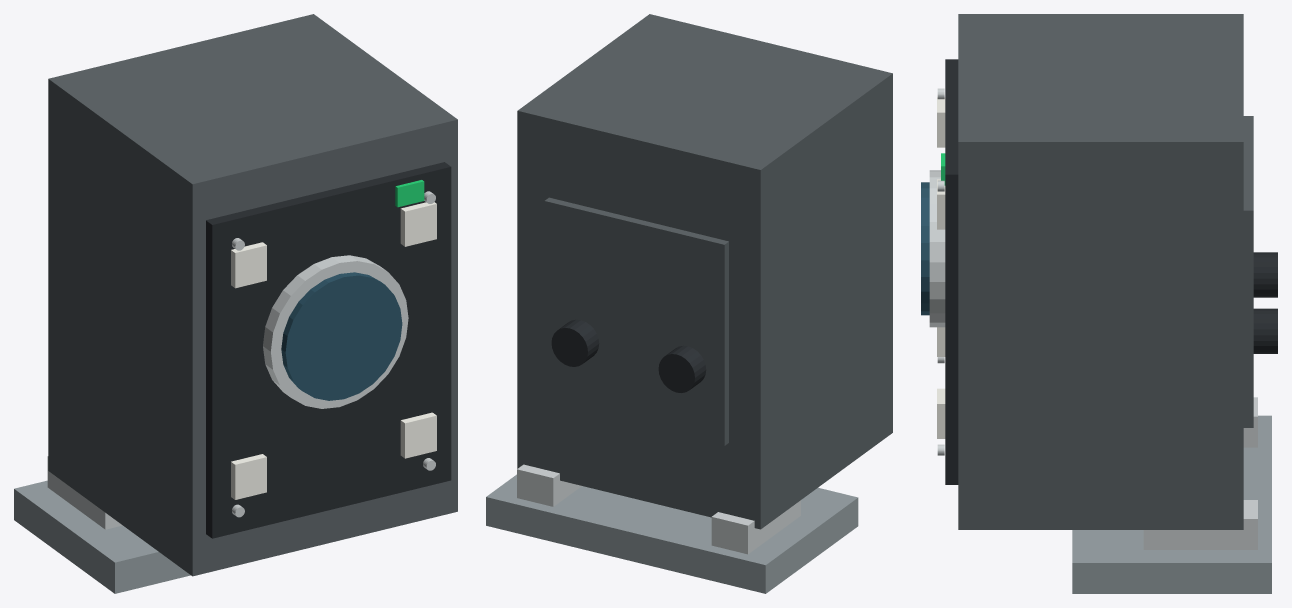
The picture shows the model from 3 angles, left to right: view 1: azimuth 30°, elevation 25°; view 2: azimuth 150°, elevation 25°; view 3: azimuth 270°, elevation 25°; orthographic projection. The views are drawn at different scales.
Visible parts, largest first — view 1: housing, front bezel, optical lens, Mount bracket, lens surround, illumination emitter.002, illumination emitter.003, illumination emitter, illumination emitter.001, mounting flange, status indicator; view 2: housing, Rear connector plate, Mount bracket, mounting flange, mounting flange.001, Electrical connector, Electrical connector.001; view 3: housing, Mount bracket, front bezel, Rear connector plate, mounting flange.001, lens surround, optical lens, Electrical connector, Electrical connector.001.
Part boxes in pixels (bbox=[...]): housing: bbox=[48, 14, 457, 576]; front bezel: bbox=[206, 162, 451, 538]; optical lens: bbox=[281, 272, 402, 400]; Mount bracket: bbox=[14, 480, 190, 593]; lens surround: bbox=[263, 255, 408, 408]; illumination emitter.002: bbox=[400, 412, 436, 458]; illumination emitter.003: bbox=[400, 202, 436, 246]; illumination emitter: bbox=[231, 454, 266, 499]; illumination emitter.001: bbox=[231, 242, 266, 288]; mounting flange: bbox=[47, 456, 122, 529]; status indicator: bbox=[395, 180, 424, 207]; housing: bbox=[517, 14, 892, 529]; Rear connector plate: bbox=[544, 197, 728, 445]; Mount bracket: bbox=[486, 474, 858, 593]; mounting flange: bbox=[711, 500, 800, 554]; mounting flange.001: bbox=[517, 464, 581, 506]; Electrical connector: bbox=[658, 345, 706, 392]; Electrical connector.001: bbox=[551, 319, 599, 366]; housing: bbox=[958, 14, 1243, 529]; Mount bracket: bbox=[1072, 415, 1271, 593]; front bezel: bbox=[945, 59, 958, 484]; Rear connector plate: bbox=[1243, 116, 1253, 427]; mounting flange.001: bbox=[1143, 500, 1257, 549]; lens surround: bbox=[929, 170, 945, 327]; optical lens: bbox=[921, 182, 929, 315]; Electrical connector: bbox=[1253, 252, 1277, 297]; Electrical connector.001: bbox=[1253, 308, 1277, 353].
Size of the model in its own units: 0.0978 by 0.1368 by 0.1.
